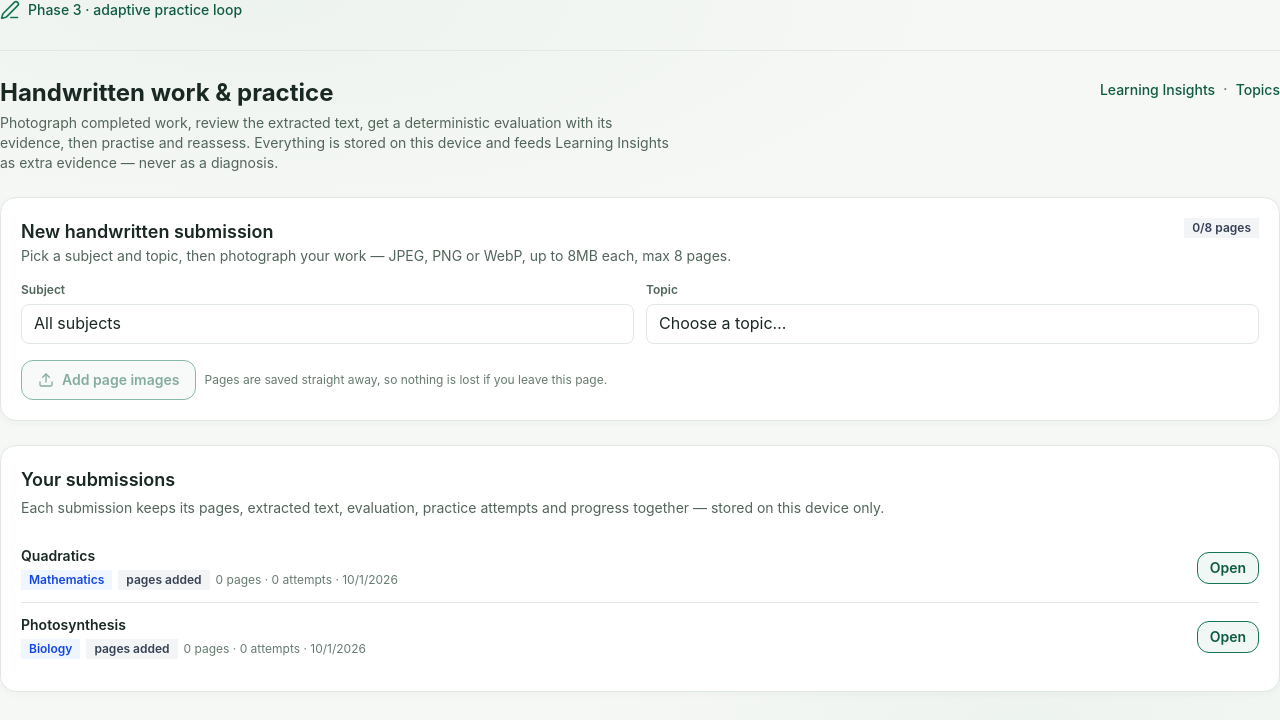
Test: HandwritingPage › lists history with open and two-step delete
The image size is (1280, 720).
Expected: the list with test id "submission-list" shows "Photosynthesis", [21,616,126,633]
Expected: the list with test id "submission-list" shows "Quadratics", [21,547,95,564]
Click the button with test id "open-hws-1" at point(1228, 637), box [1197,621,1259,653]
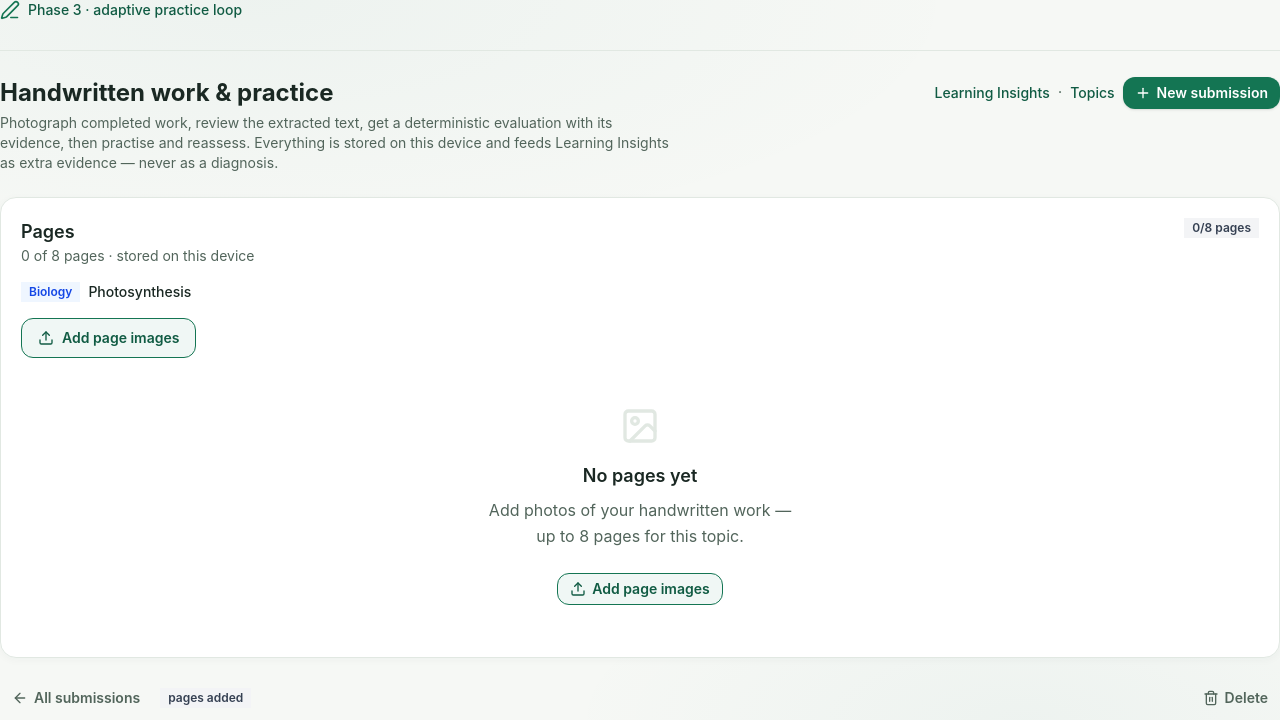
Expected: the element with test id "active-toolbar" is shown, [0,682,1279,714]
Click the button with test id "delete-submission" at point(1235, 698), box [1191,682,1279,714]
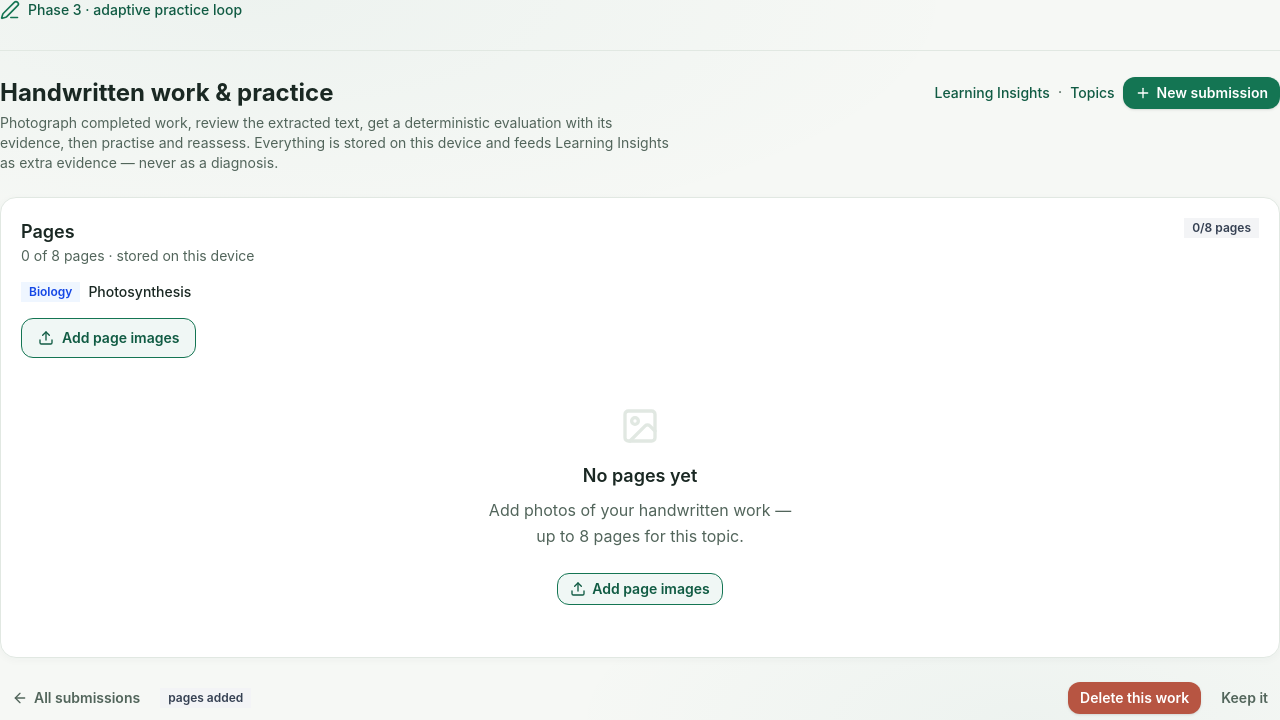
Click the button with test id "confirm-delete" at point(1135, 698), box [1068,682,1201,714]
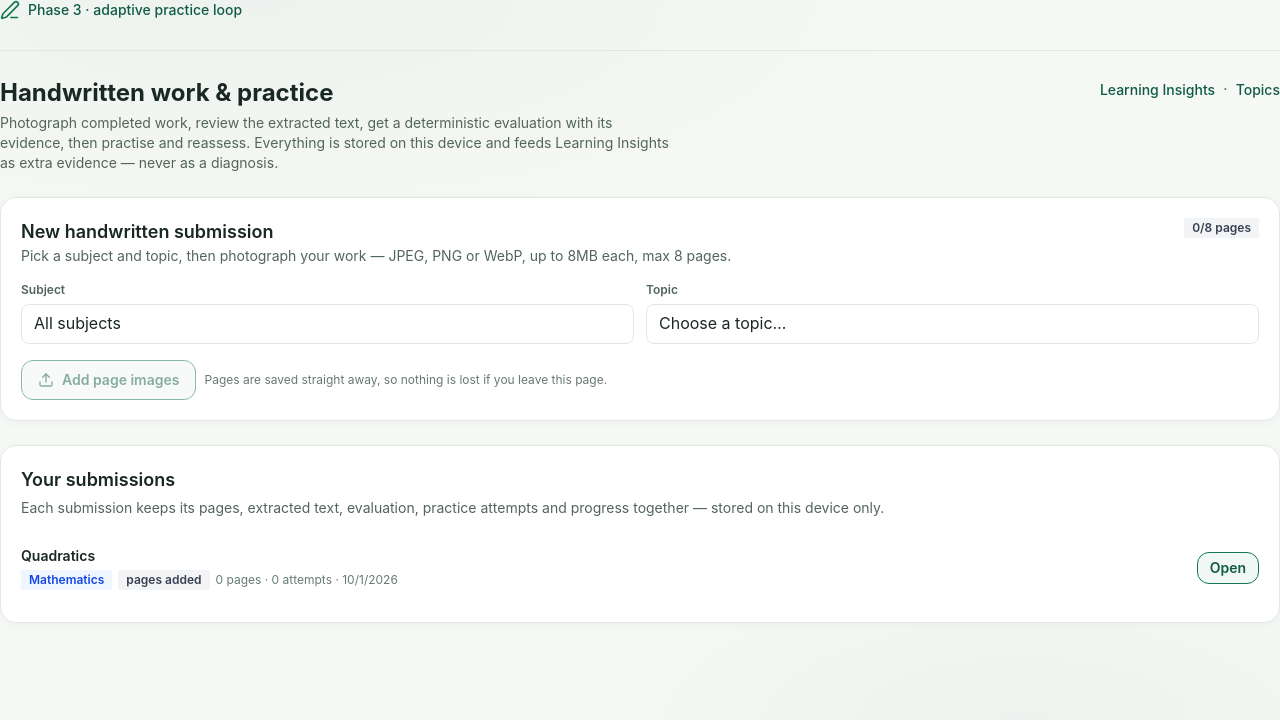
Expected: the list with test id "submission-list" is shown, [21,534,1259,602]
